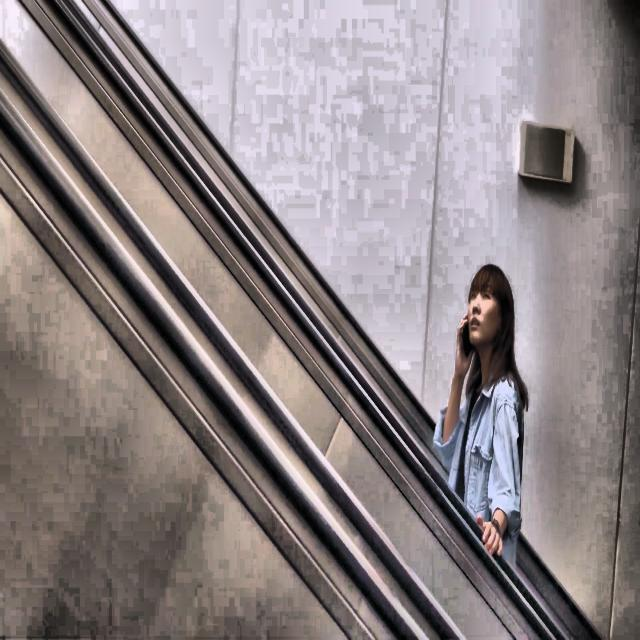Phone: (460, 316, 472, 360)
